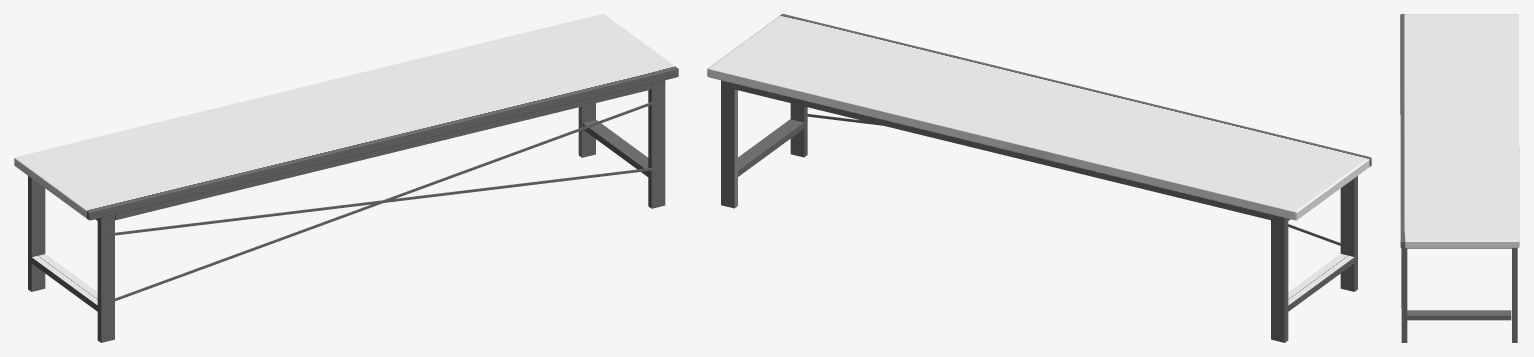
File: table.obj
3 views of the same model, side by side, from view 1: azimuth 30°, elevation 25°; view 2: azimuth 150°, elevation 25°; view 3: azimuth 270°, elevation 25° (orthographic). The views are drawn at different scales.
Visible parts, largest first — view 1: 平面.001; view 2: 平面.001; view 3: 平面.001.
Boxes of the visible parts, x1,y1,x2,y2 form: 平面.001: (14, 14, 678, 342); 平面.001: (707, 14, 1371, 342); 平面.001: (1400, 14, 1519, 342).
Size of the model in its own units: 9.18 by 2 by 2.03.
1 material, 1 textured.
